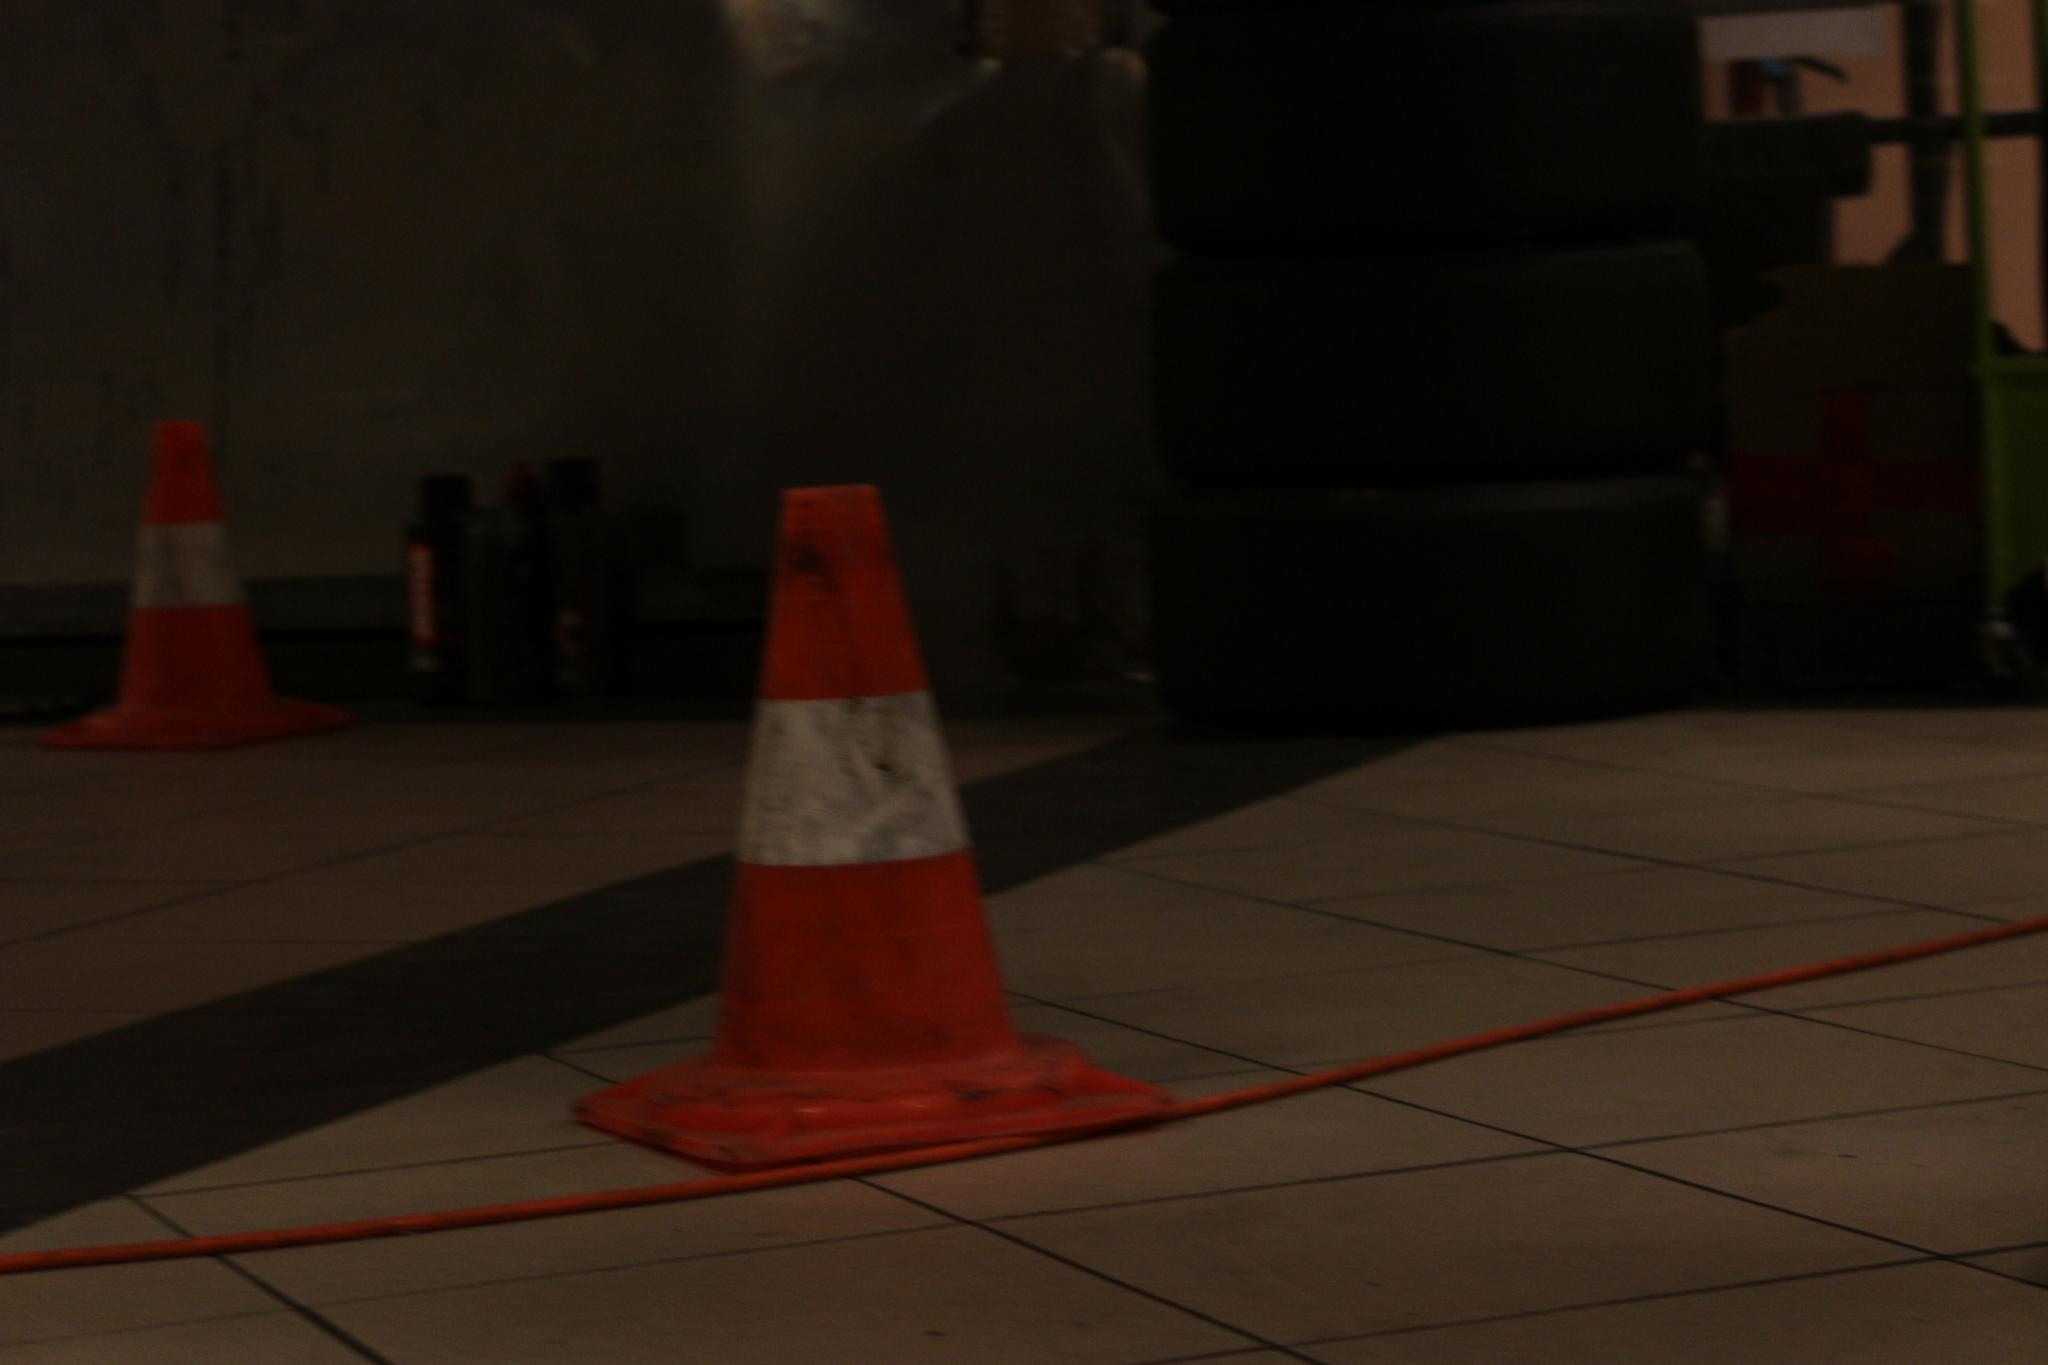Orange_Cone: (550, 472, 1124, 1155), (69, 411, 327, 757)
